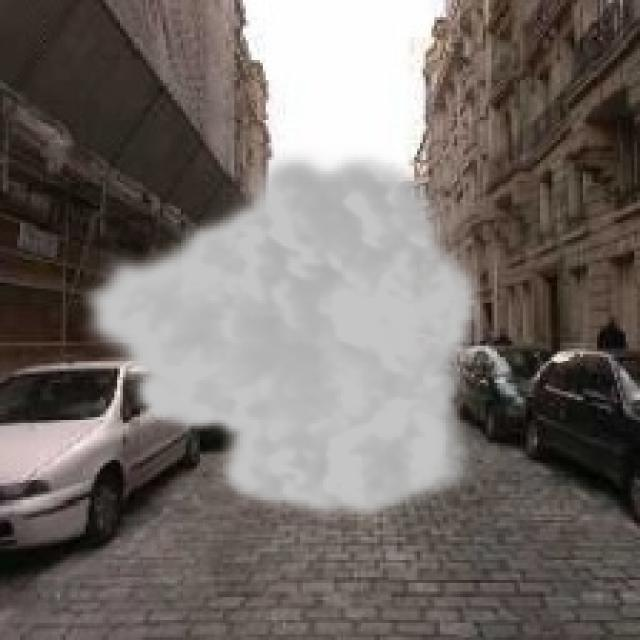Smoke: (74, 143, 486, 526)
